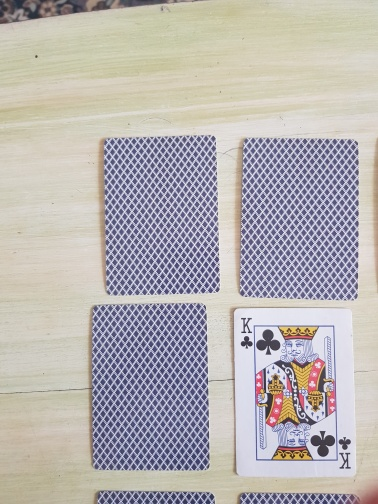king: (232, 307, 357, 478)
